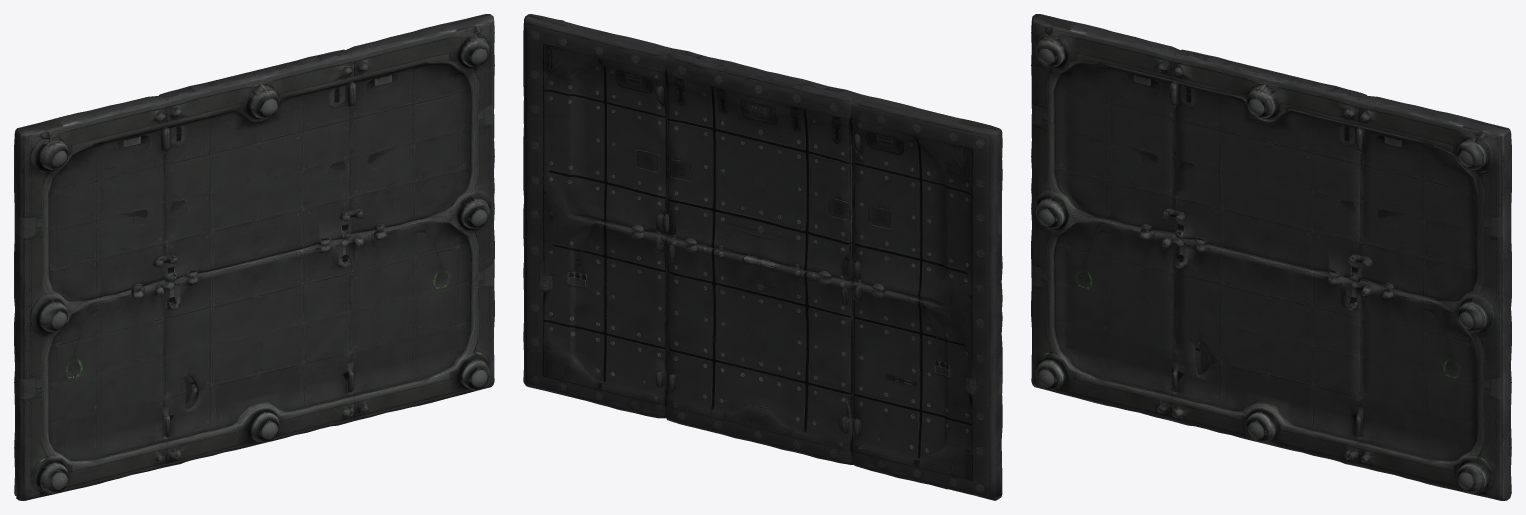
Rendered from floor_tile_b.glb.
3 renders of one model, left to right at view 1: azimuth 30°, elevation 25°; view 2: azimuth 150°, elevation 25°; view 3: azimuth 330°, elevation 25°, orthographic.
Bounding box in the file's own units: 1.91 × 1.42 × 0.1644.
1 material, 1 textured.
